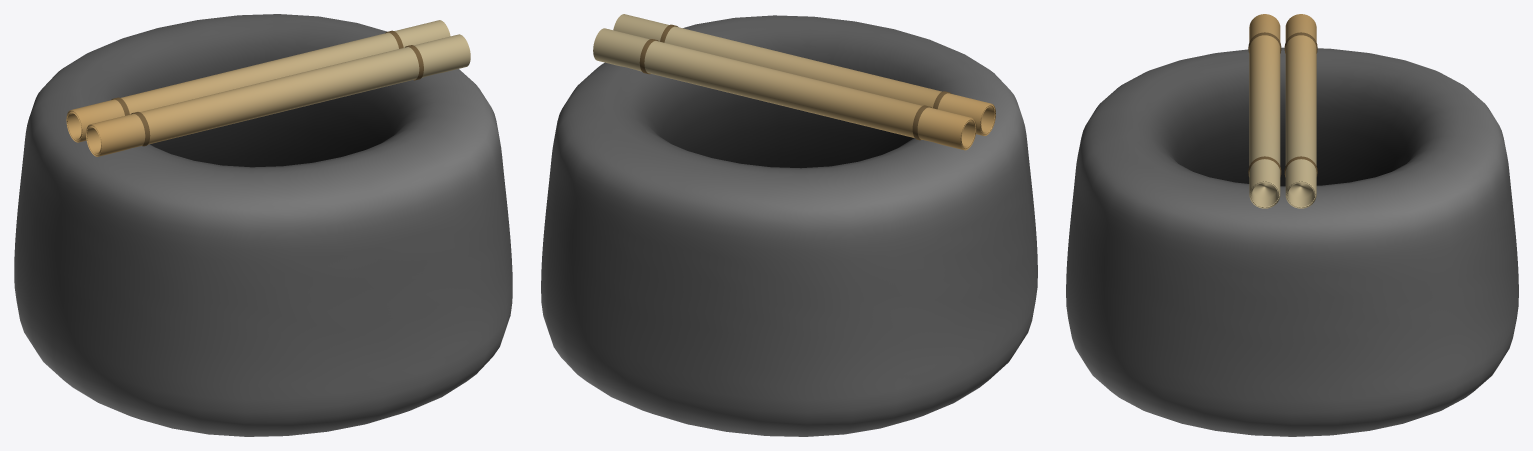
The model's file is round vase.fbx.
3 views of the same model, side by side, from view 1: azimuth 30°, elevation 25°; view 2: azimuth 150°, elevation 25°; view 3: azimuth 270°, elevation 25° (orthographic). The views are drawn at different scales.
Visible parts, largest first — view 1: Cylinder.006; view 2: Cylinder.006; view 3: Cylinder.006.
Boxes of the visible parts, x1,y1,x2,y2 form: Cylinder.006: (14,14,512,436); Cylinder.006: (541,14,1037,436); Cylinder.006: (1066,14,1518,436).
Bounding box in the file's own units: 168 × 115 × 168.
